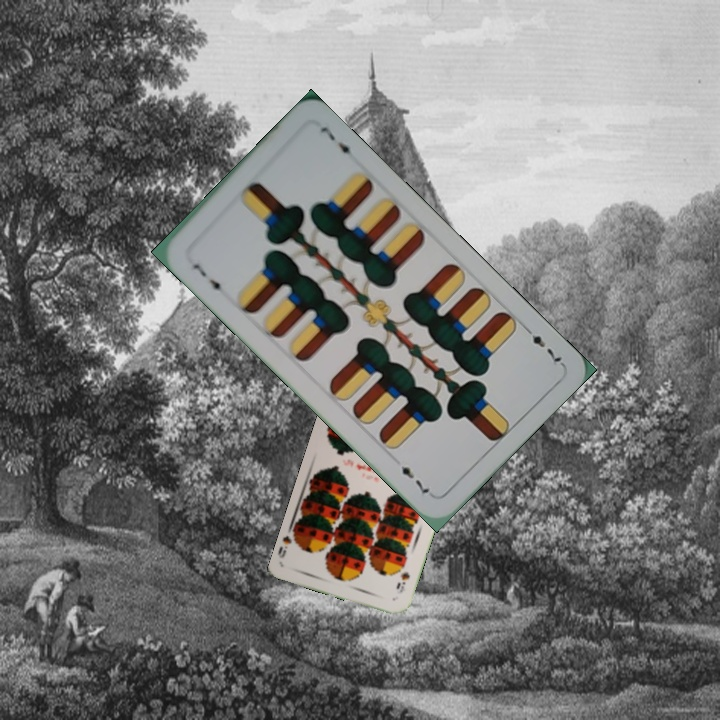E7: (519, 321, 565, 368), (189, 259, 226, 298)
S9: (392, 568, 412, 595)
